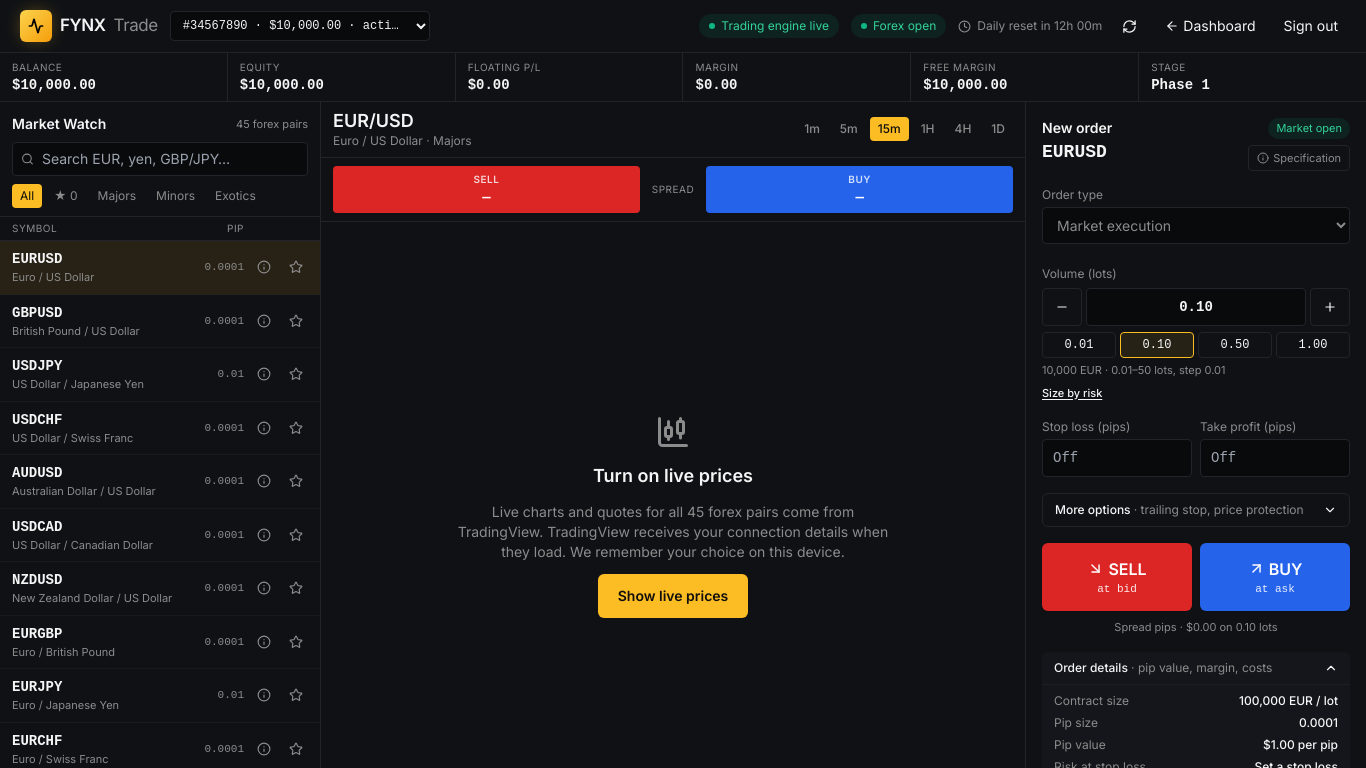
Test: order ticket shows margin, commission and swap › flags a volume above the server's maximum
Replace the text in the field labelled "Volume (lots)" with "30". click: [1196, 307]
box: 1086,288 -> 1306,326
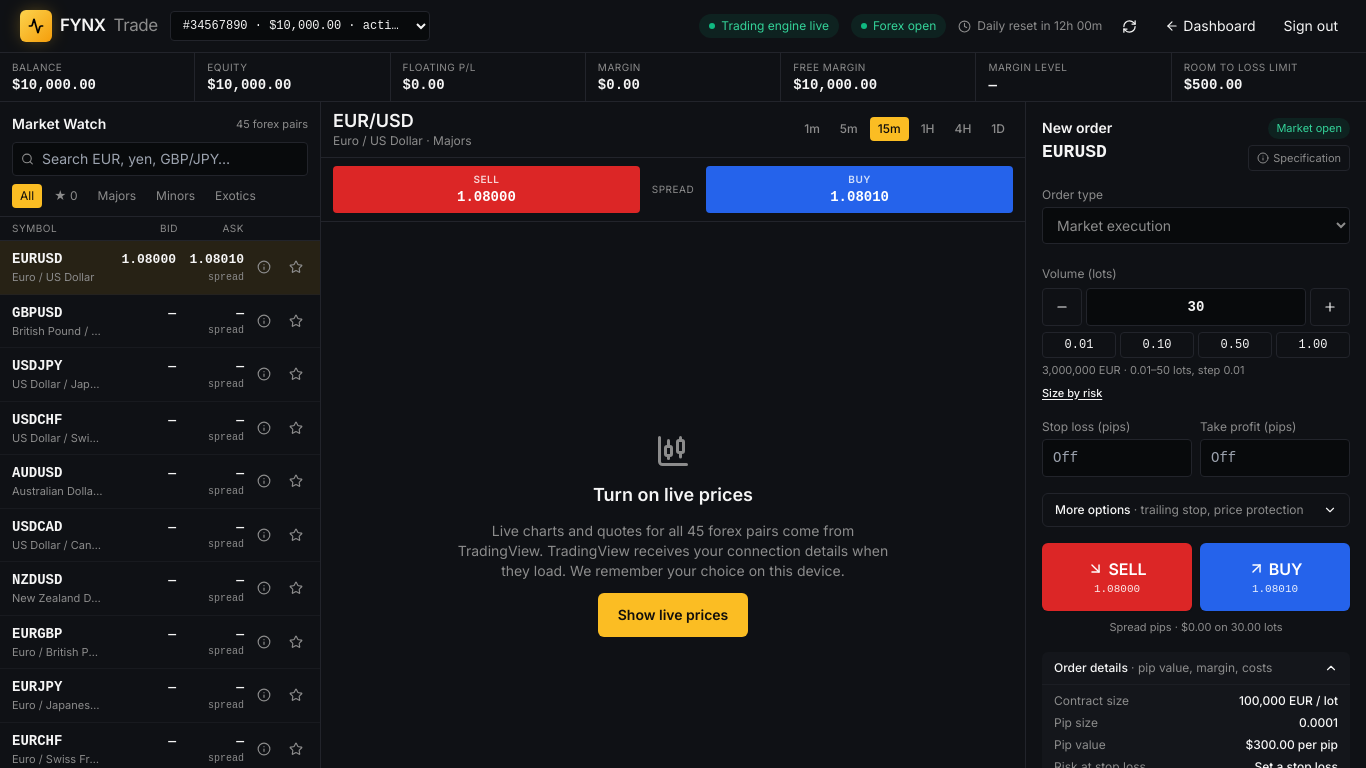
Click the button with test id "buy-button". click: [1275, 577]
box: 1200,542 -> 1350,611
(page scrolled)
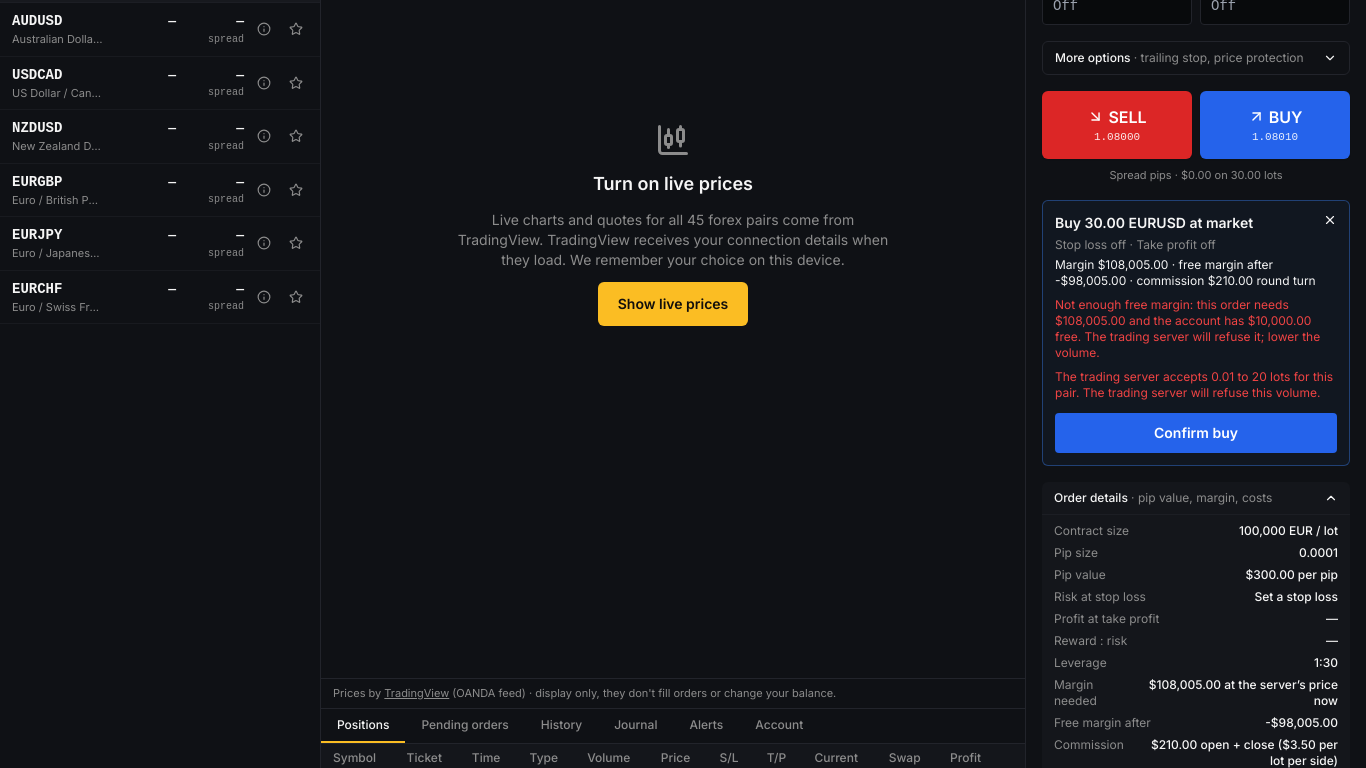
Result: the message with test id "volume-warning" shows "The trading server accepts 0.01 to 20 lots for this pair." at 1055,368 -> 1333,400
